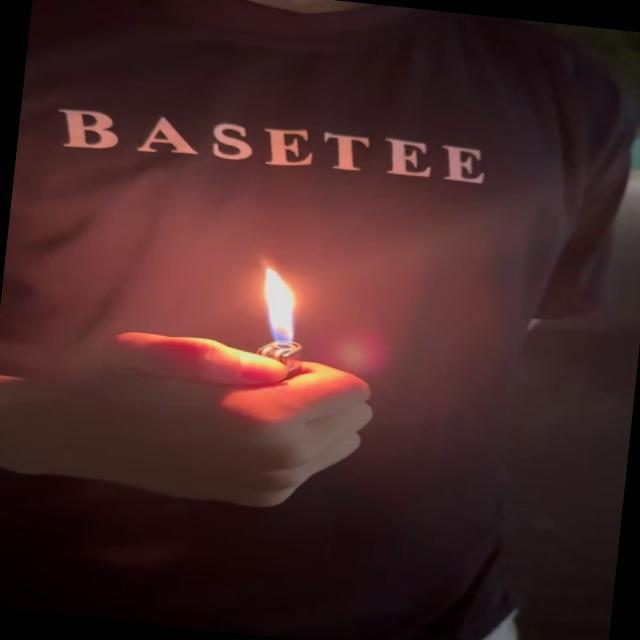Fire: (248, 262, 311, 352)
